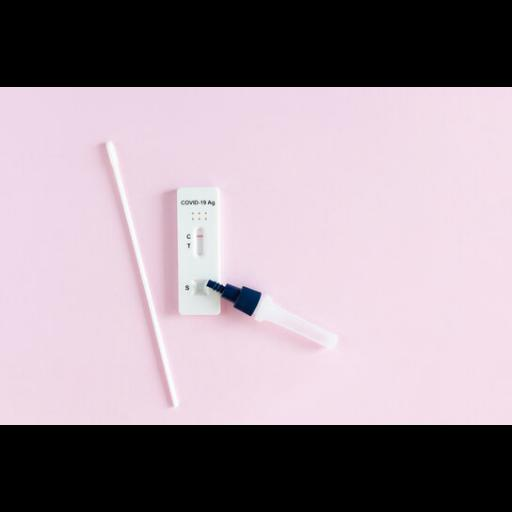Neg: (176, 187, 222, 313)
